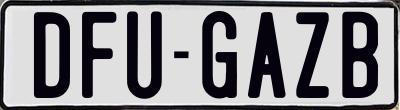A: (246, 12, 285, 101)
B: (342, 10, 384, 97)
D: (31, 12, 69, 100)
F: (80, 12, 114, 99)
G: (202, 10, 238, 101)
U: (125, 10, 162, 98)
Z: (296, 10, 335, 96)
